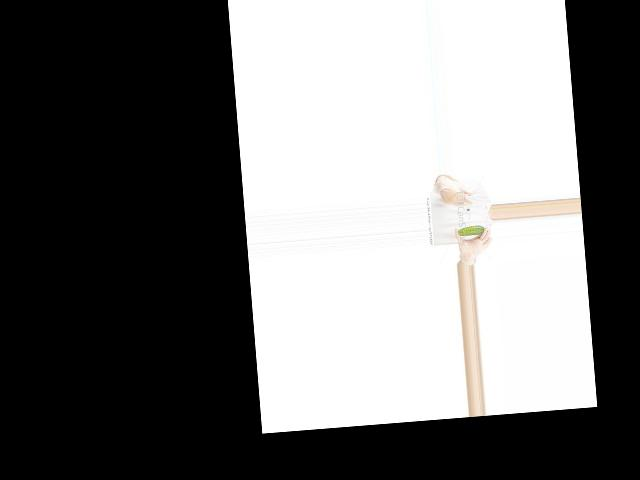cucumber: (456, 225, 484, 237)
